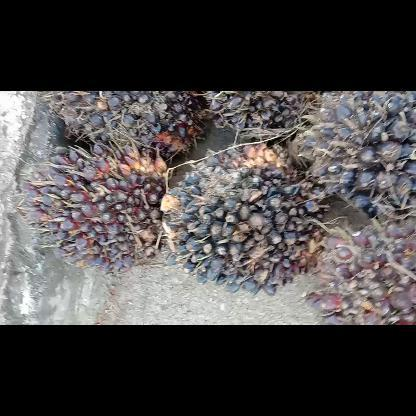TBS mentah: (157, 141, 329, 297), (21, 140, 172, 274), (297, 90, 415, 222), (37, 91, 209, 167), (304, 213, 414, 323), (199, 91, 307, 145)
